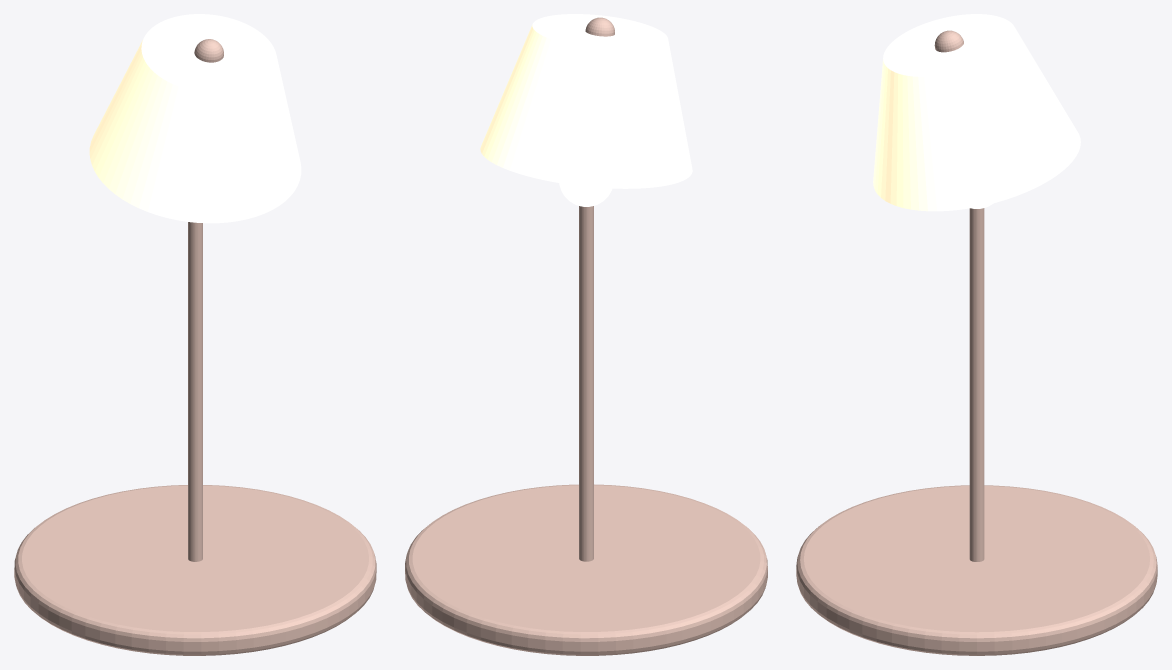
File: brass_lamp_rose.glb
The picture shows the model from 3 angles, left to right: view 1: azimuth 30°, elevation 25°; view 2: azimuth 150°, elevation 25°; view 3: azimuth 270°, elevation 25°; orthographic projection.
Visible parts, largest first — view 1: V_Rose_Base, V_Rose_Shade, V_Rose_Stem, V_Rose_Finial; view 2: V_Rose_Base, V_Rose_Shade, V_Rose_Stem, V_Rose_Bulb; view 3: V_Rose_Base, V_Rose_Shade, V_Rose_Stem.
Boxes of the visible parts, <box> form: V_Rose_Base: <box>14,485,376,655</box>; V_Rose_Shade: <box>89,14,301,223</box>; V_Rose_Stem: <box>188,222,202,561</box>; V_Rose_Finial: <box>194,39,223,62</box>; V_Rose_Base: <box>405,484,767,655</box>; V_Rose_Shade: <box>480,14,692,188</box>; V_Rose_Stem: <box>579,206,593,561</box>; V_Rose_Bulb: <box>559,183,612,206</box>; V_Rose_Base: <box>796,485,1157,655</box>; V_Rose_Shade: <box>873,14,1080,211</box>; V_Rose_Stem: <box>969,208,984,561</box>.
Bounding box in the file's own units: 1.7 × 2.86 × 1.7.
